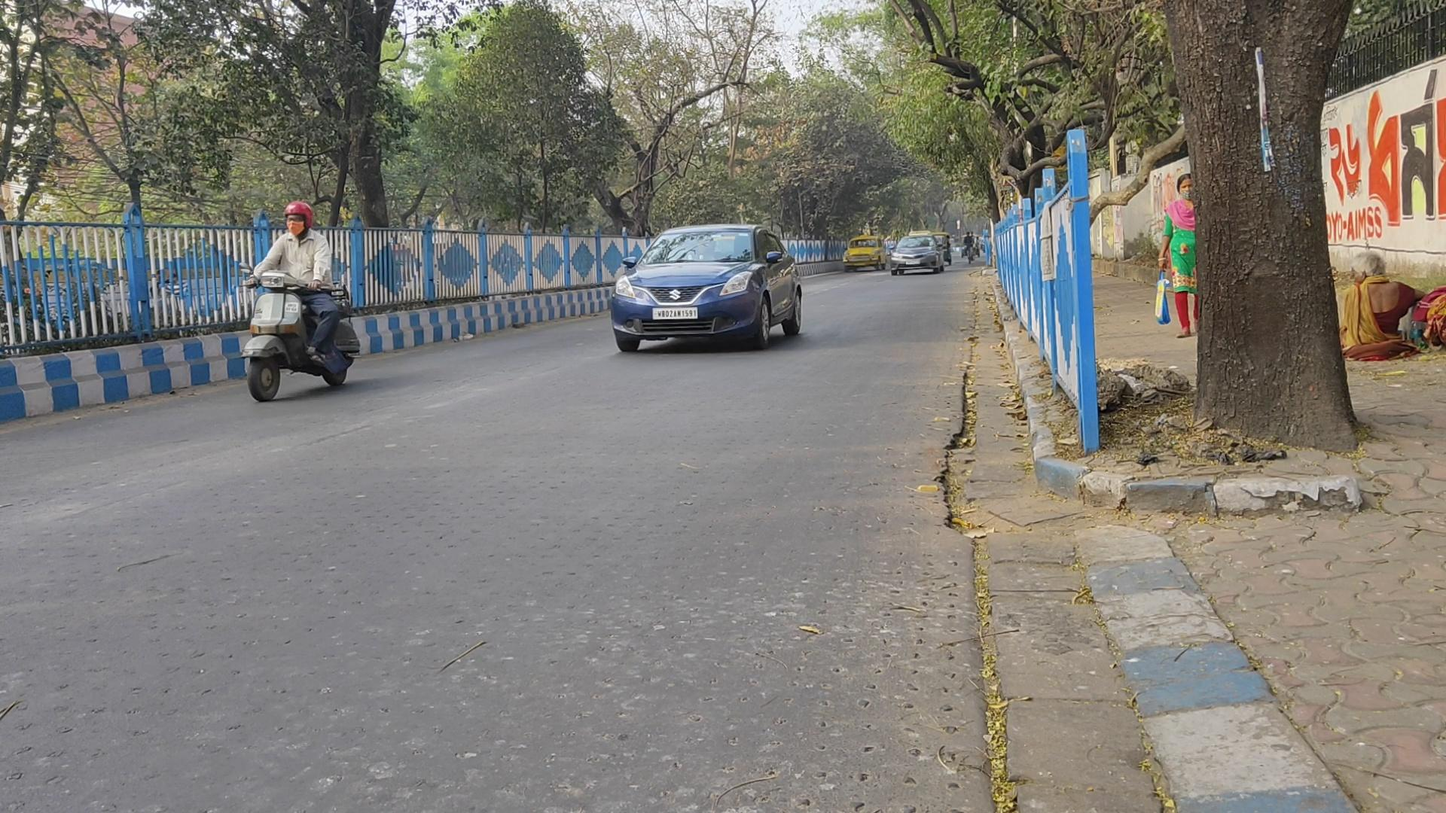bike: (237, 200, 362, 403), (963, 231, 975, 265)
car: (612, 223, 804, 354), (889, 233, 944, 275), (840, 235, 888, 275)
